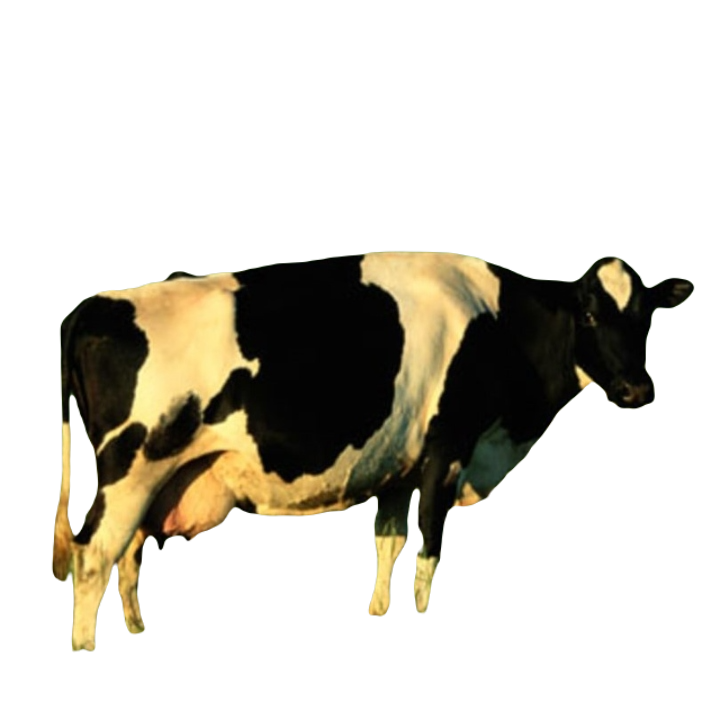Cow: (44, 253, 696, 654)
